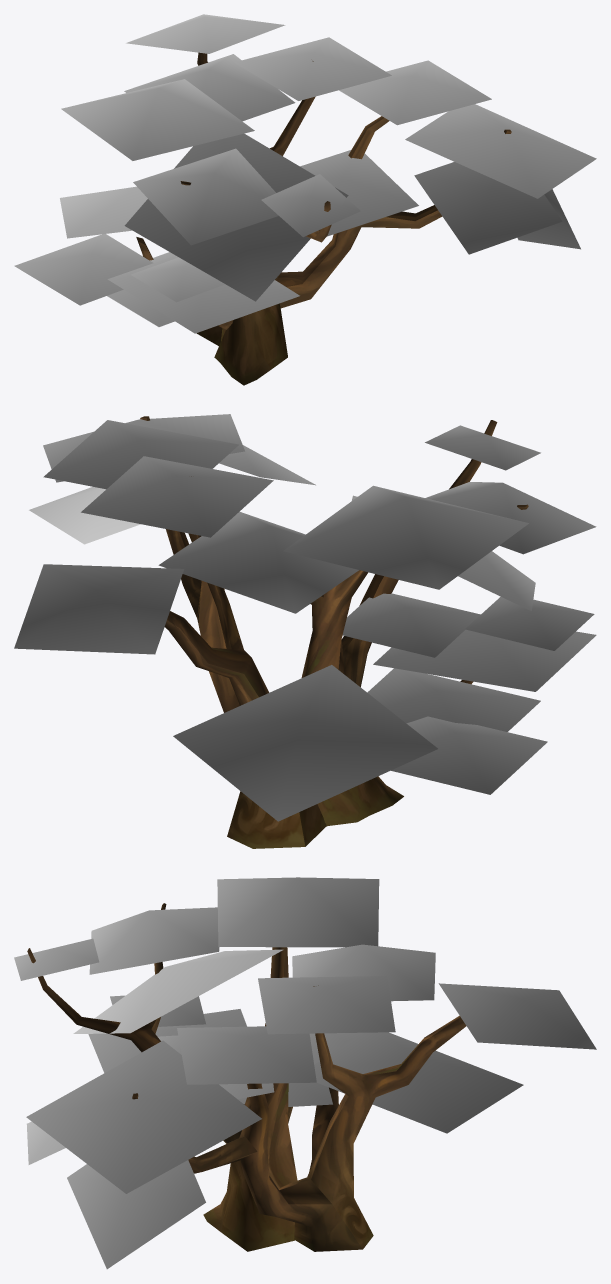
File: bush_11.obj
The picture shows the model from 3 angles, top to bottom: view 1: azimuth 30°, elevation 25°; view 2: azimuth 150°, elevation 25°; view 3: azimuth 270°, elevation 25°; orthographic projection. The views are drawn at different scales.
Visible parts, largest first — view 1: bush_11; view 2: bush_11; view 3: bush_11.
Boxes of the visible parts, box(x1,y1,x2,y2) form: bush_11: box(14, 14, 596, 385); bush_11: box(14, 414, 596, 848); bush_11: box(14, 877, 596, 1269).
Bounding box in the file's own units: 506 × 288 × 483.
